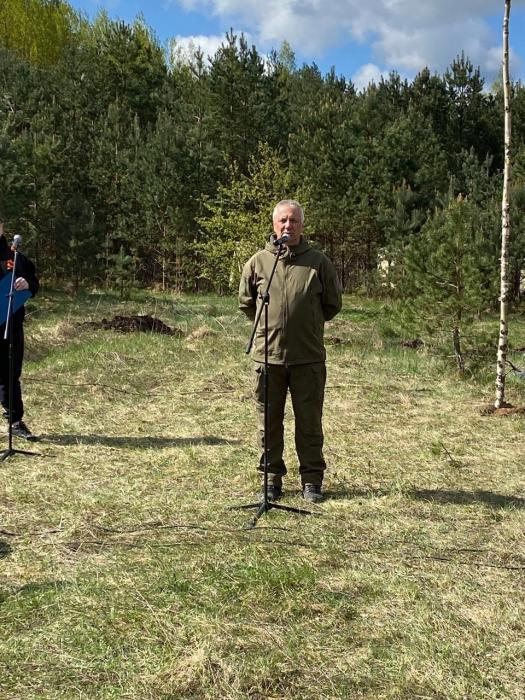person: (216, 186, 369, 522)
